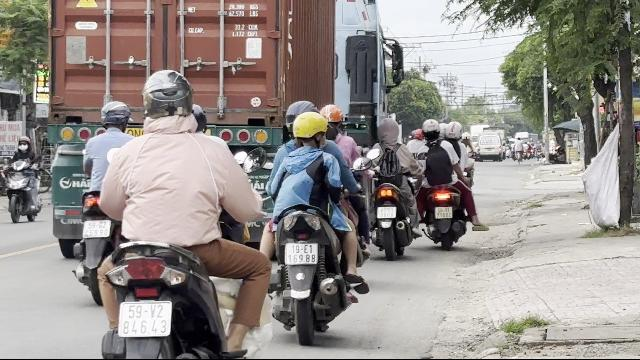helmet: (140, 68, 197, 128), (290, 112, 328, 148), (99, 99, 131, 131), (376, 118, 400, 144), (321, 103, 343, 126), (422, 118, 441, 142), (444, 120, 462, 140)
licenseplate: (119, 301, 171, 337), (286, 244, 318, 264), (83, 220, 111, 238), (377, 207, 395, 218), (436, 208, 452, 218)
motorcyclist: (82, 67, 290, 355), (256, 101, 370, 340), (76, 98, 132, 302), (412, 118, 482, 250), (366, 117, 414, 258)
